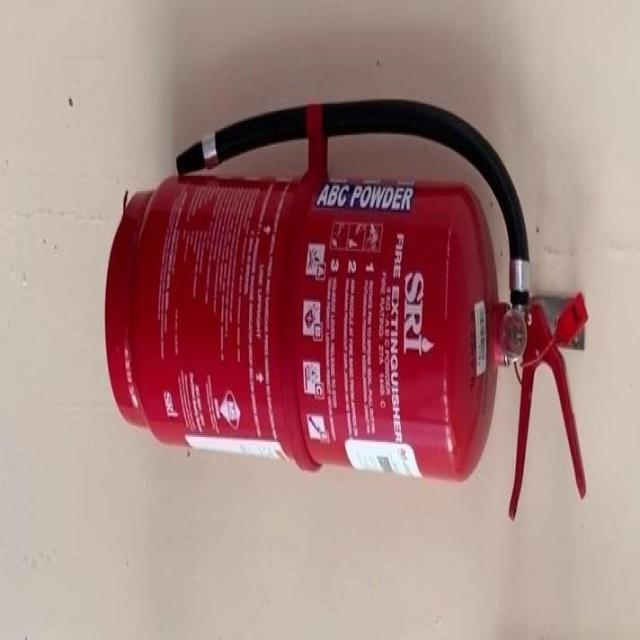fire_extinguisher: (99, 91, 590, 526)
